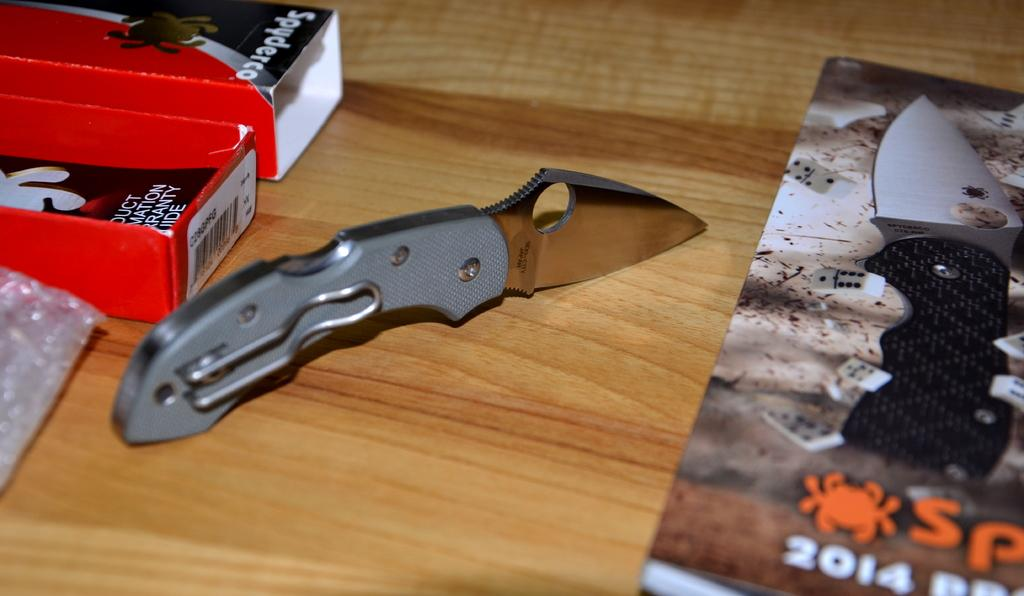Knife: (109, 168, 707, 442)
